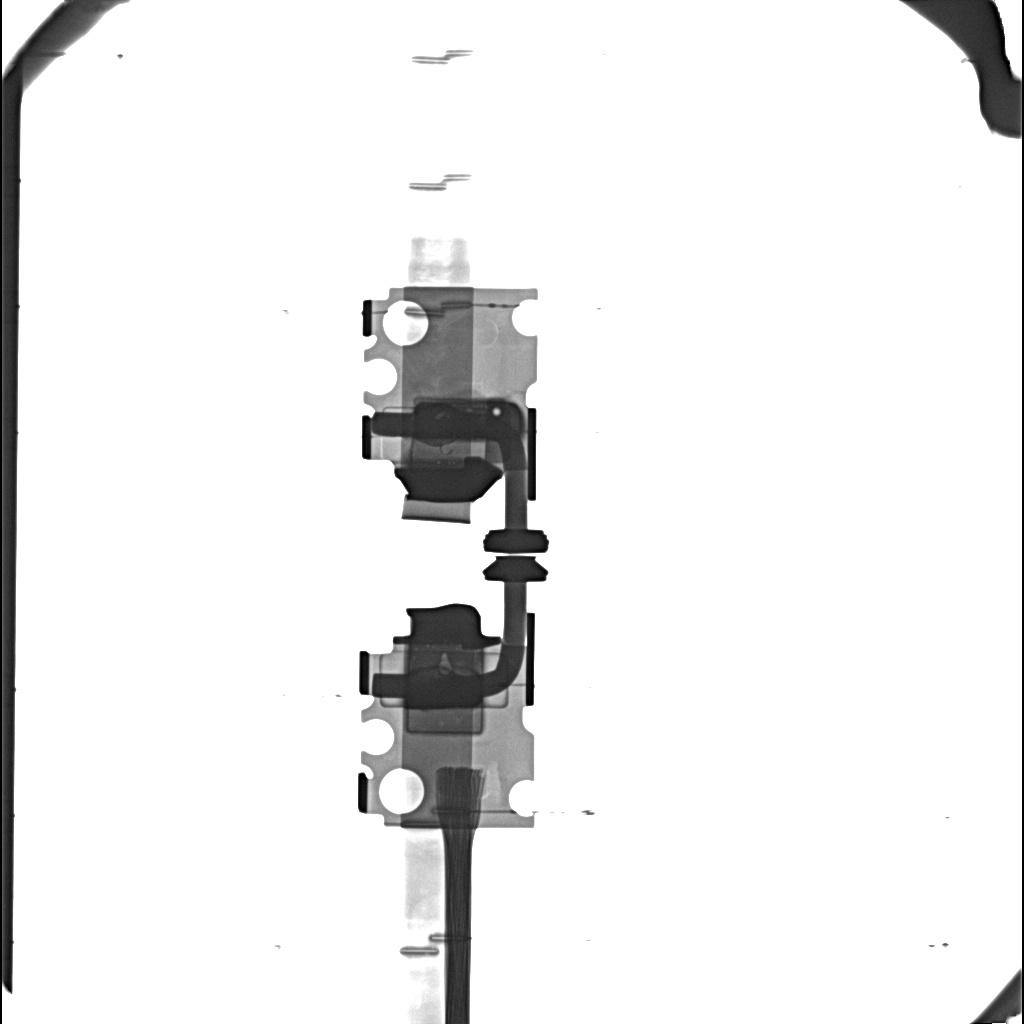PX: (406, 709, 484, 734)
QP: (440, 653, 450, 667)
SX: (410, 401, 522, 439), (407, 666, 480, 708)
